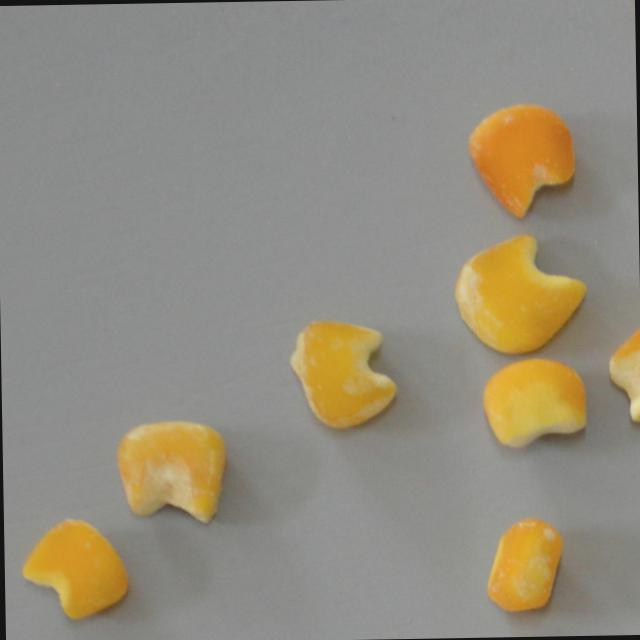dañado: (466, 101, 577, 219)
no_canjicado: (484, 355, 590, 448)
pelicula: (454, 231, 589, 356), (290, 317, 398, 430), (117, 417, 227, 527), (20, 515, 130, 621), (485, 516, 565, 612), (608, 307, 640, 422)
